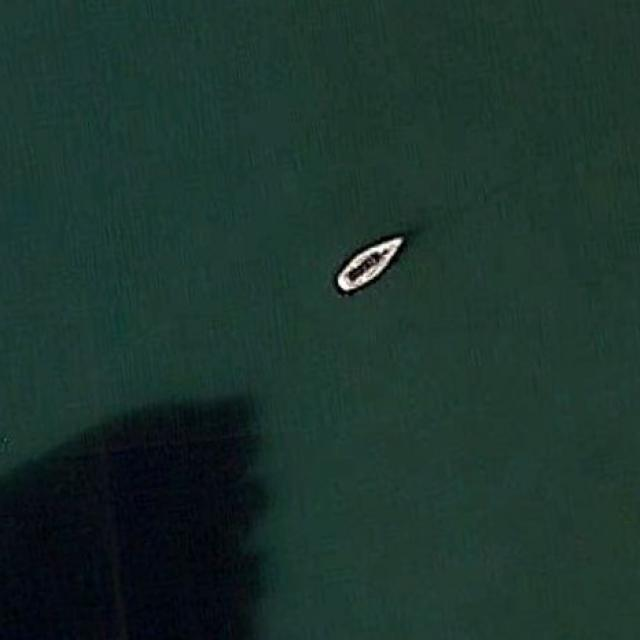ship: (334, 232, 406, 294)
